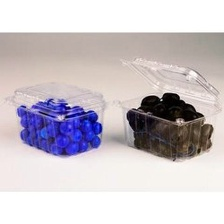plastic_box: (105, 50, 224, 168), (0, 76, 124, 164)
